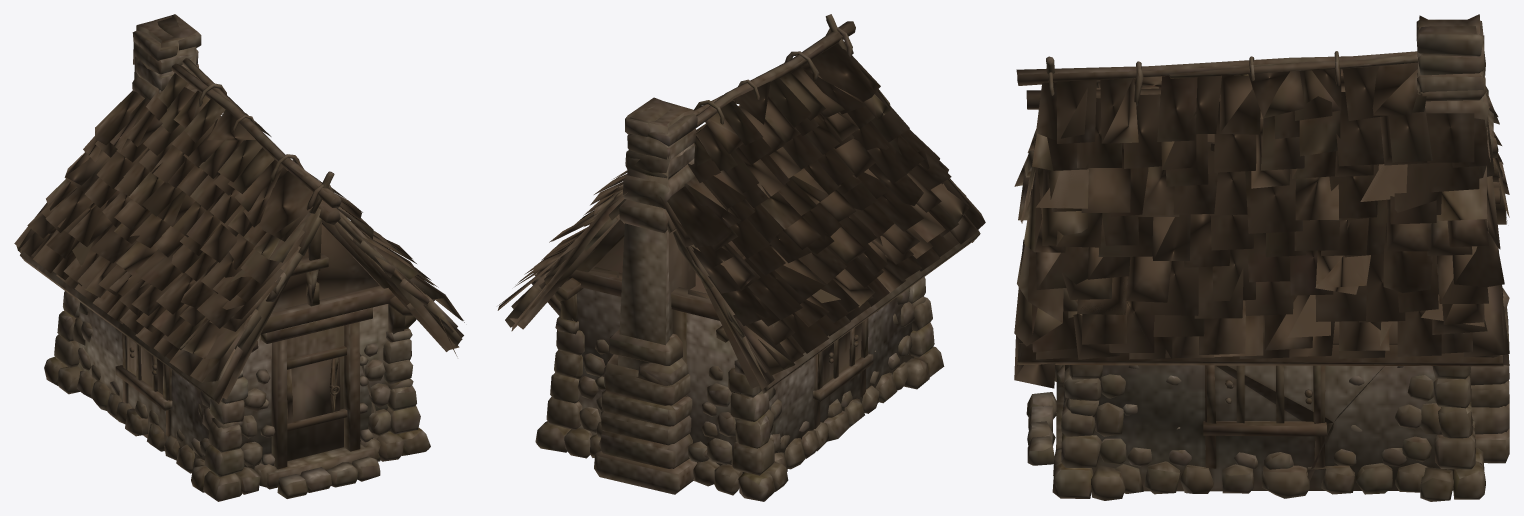
File: x_home_A.glb
The picture shows the model from 3 angles, left to right: view 1: azimuth 30°, elevation 25°; view 2: azimuth 150°, elevation 25°; view 3: azimuth 270°, elevation 25°; orthographic projection. The views are drawn at different scales.
Parts seen in each view (by area): view 1: x_home_A; view 2: x_home_A; view 3: x_home_A.
Boxes of the visible parts, x1=… form: x_home_A: x1=14, y1=14, x2=464, y2=501; x_home_A: x1=497, y1=14, x2=985, y2=501; x_home_A: x1=1014, y1=14, x2=1509, y2=501.
Bounding box in the file's own units: 0.6811 × 0.7971 × 0.8537.
1 material, 1 textured.
